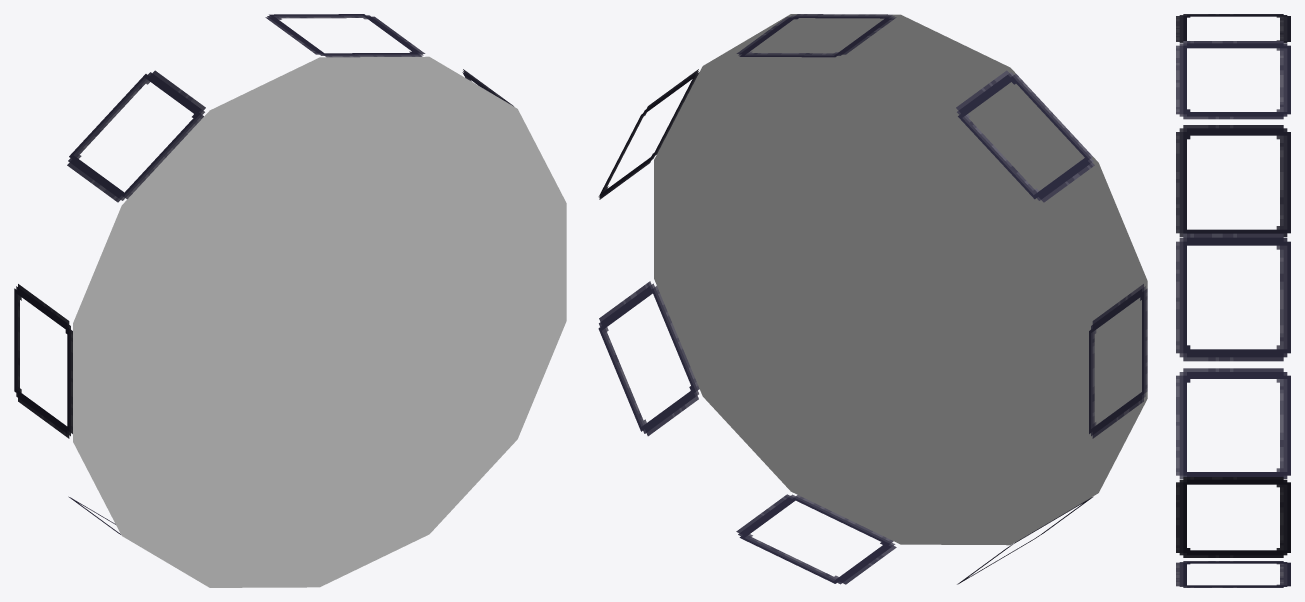
Rendered from trampoline_small.glb.
The picture shows the model from 3 angles, left to right: view 1: azimuth 30°, elevation 25°; view 2: azimuth 150°, elevation 25°; view 3: azimuth 270°, elevation 25°; orthographic projection.
Visible parts, largest first — view 1: mat, feet; view 2: mat, feet; view 3: feet.
Boxes of the visible parts, x1,y1,x2,y2 form: mat: (73,56,566,587); feet: (14,14,513,534); mat: (654,14,1147,545); feet: (598,14,1147,584); feet: (1176,14,1290,587).
Bounding box in the file's own units: 2.92 × 3 × 0.6.
Materials: 2 (1 with a texture image).
